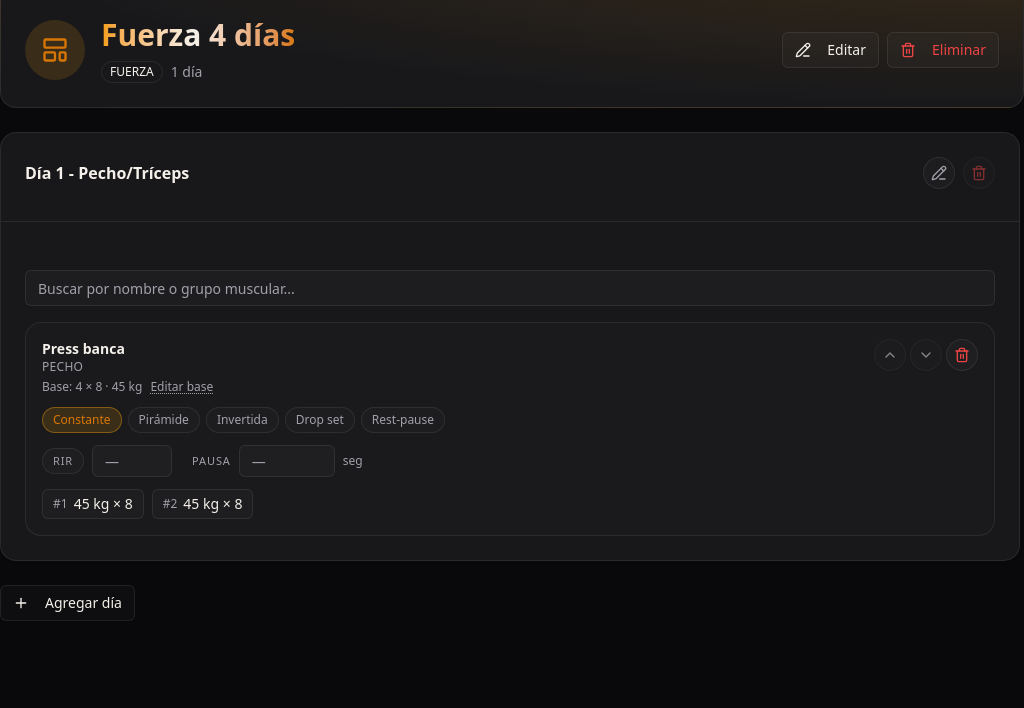
Test: detalle de plantilla de rutina — borrador y guardado › descarta el borrador y deja la plantilla como estaba
Expected: the text "Día 1 - Pecho/Tríceps" is shown, [25, 165, 189, 181]
Click the button "Agregar día" at (67, 603), box [0, 585, 135, 621]
(page scrolled)
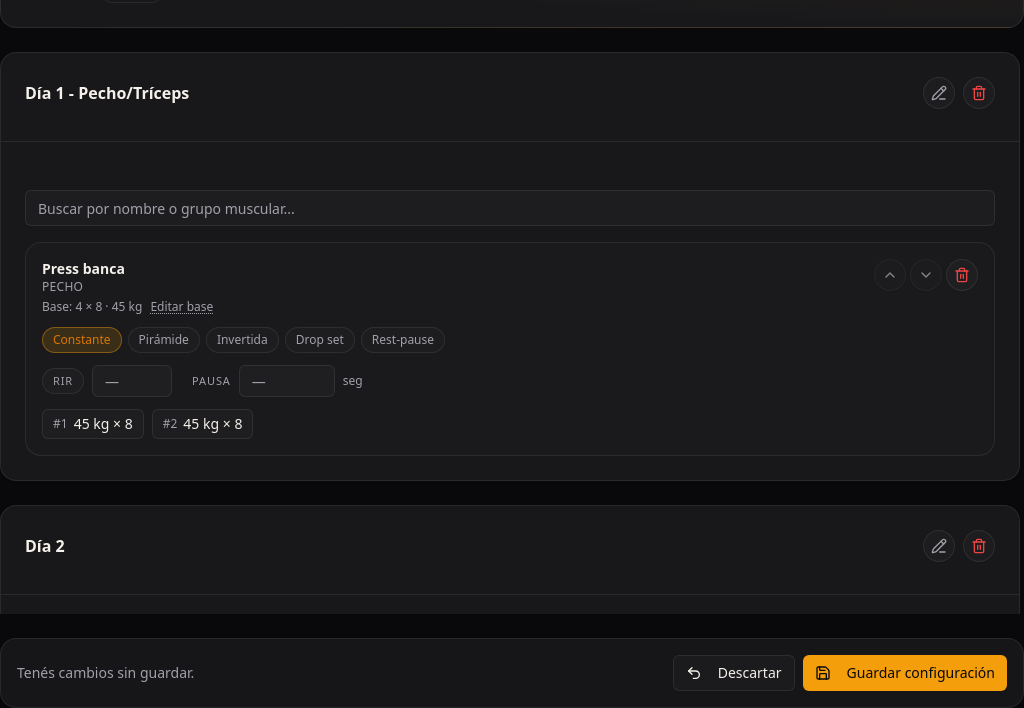
Now the text "Día 2" is shown, box [25, 538, 65, 554]
Click the button "Descartar" at (734, 673), box [673, 655, 795, 691]
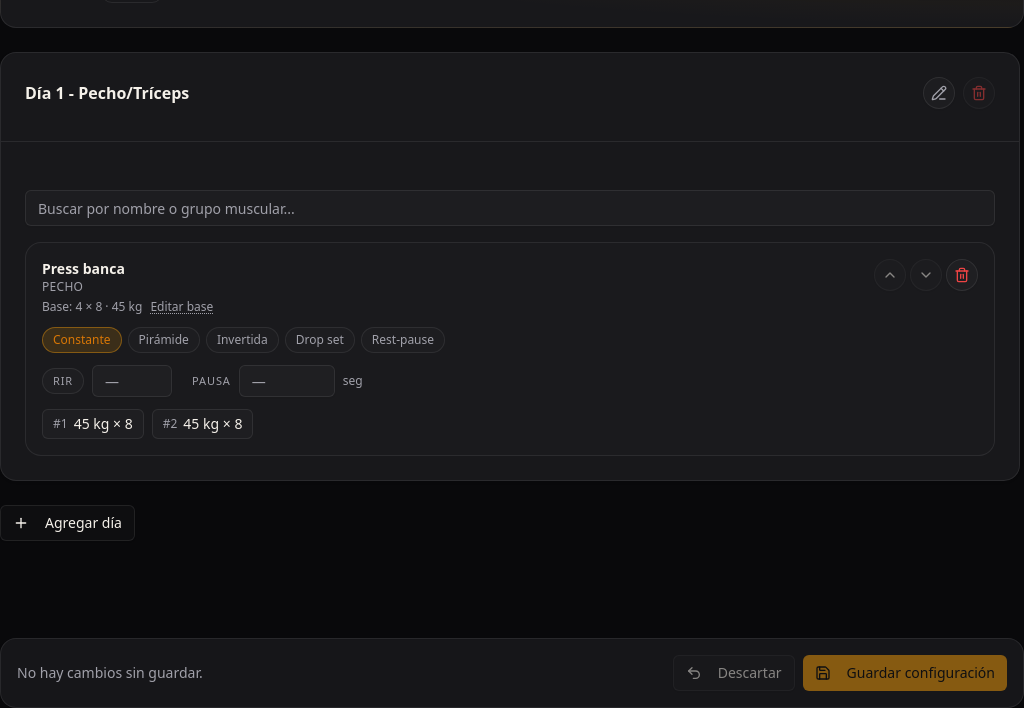
Expected: the text "Día 1 - Pecho/Tríceps" is shown, [25, 85, 189, 101]
Now the text "Día 2" is gone
